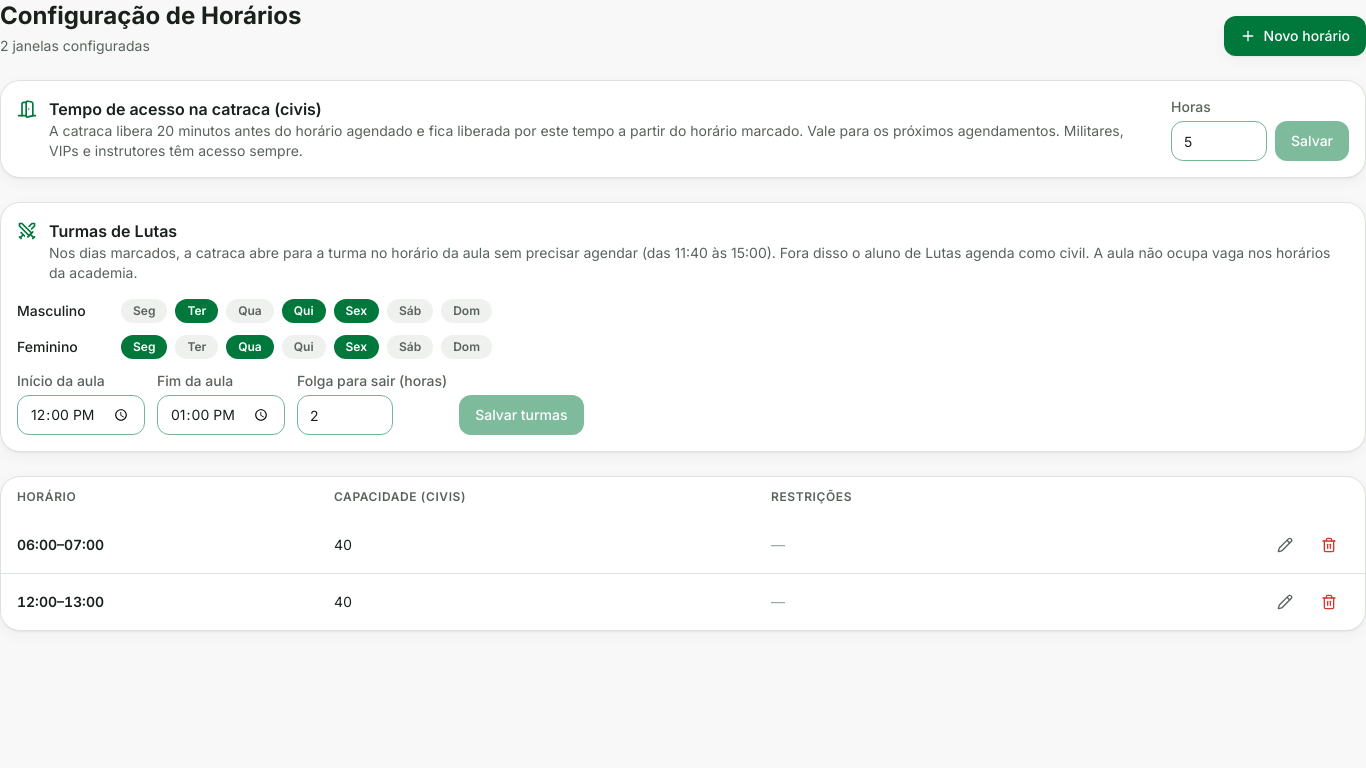
Test: Config. Horários - excluir › cancelar não exclui
The width and height of the screenshot is (1366, 768).
Click the button named "Excluir horário 12:00–13:00" at (1329, 602), box [1309, 586, 1349, 618]
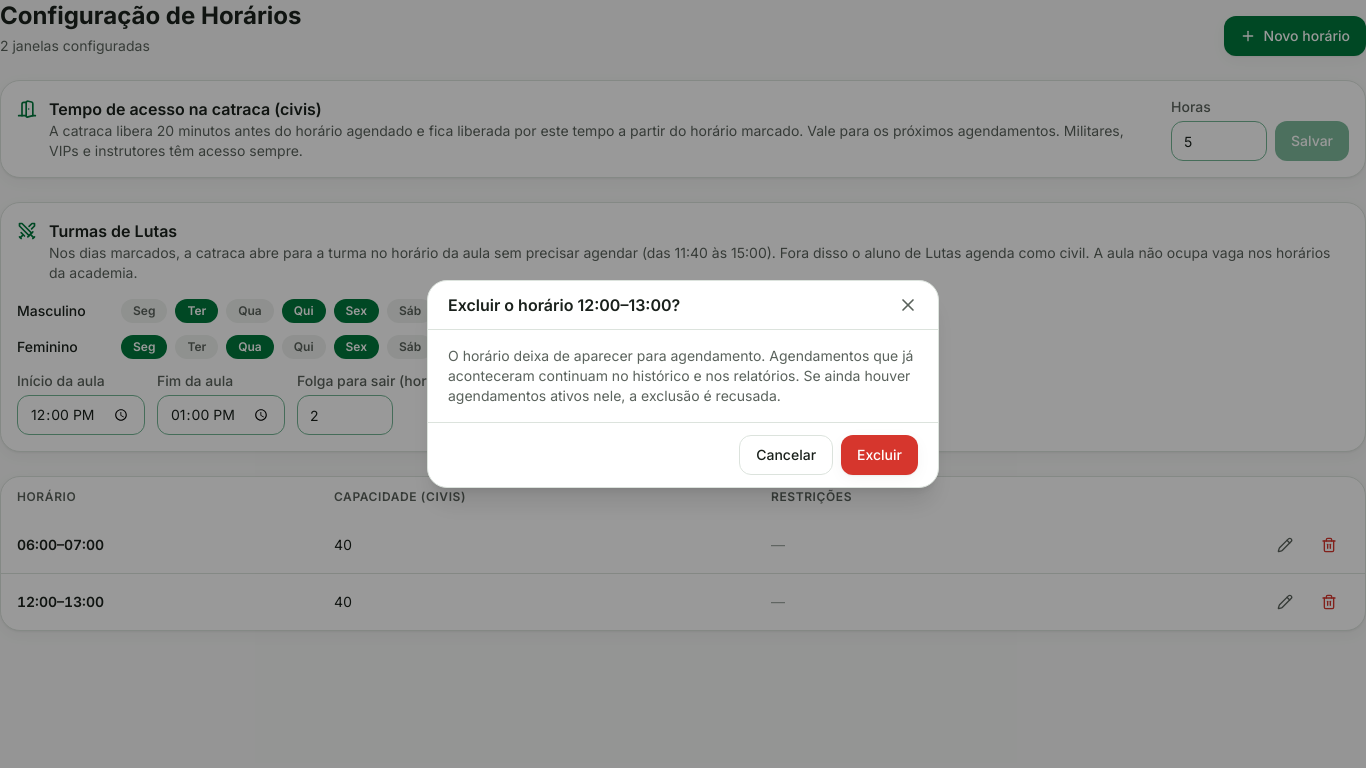
Click the button "Cancelar" at (786, 455), box [739, 435, 833, 475]
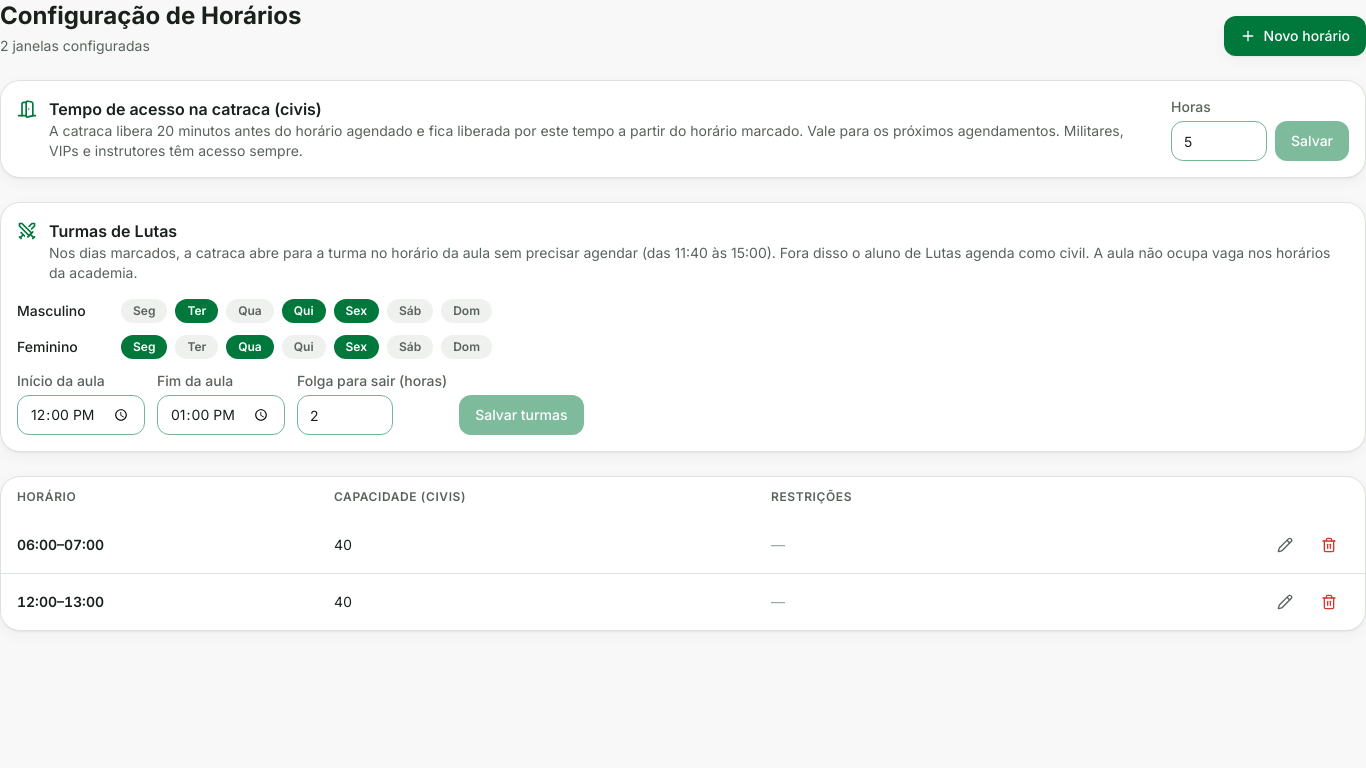
Result: the dialog is gone
